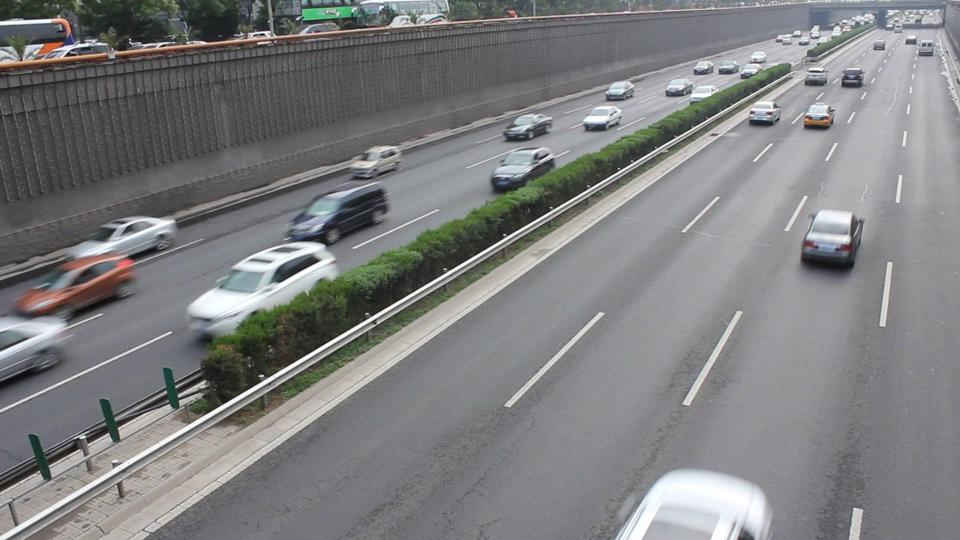bus: (0, 17, 77, 64), (273, 0, 351, 41), (354, 0, 450, 33)
car: (188, 241, 343, 336), (605, 463, 777, 540), (11, 257, 143, 316), (287, 183, 393, 244), (0, 310, 81, 386), (66, 217, 176, 264), (799, 210, 862, 267), (489, 147, 559, 193), (349, 146, 403, 179), (49, 43, 111, 66), (503, 113, 553, 141), (581, 106, 624, 132), (803, 103, 834, 131), (747, 104, 781, 126), (605, 81, 634, 100), (838, 67, 866, 86), (663, 80, 690, 97), (805, 69, 829, 86), (693, 60, 714, 75), (716, 61, 738, 75), (739, 63, 760, 77), (776, 35, 794, 44)
